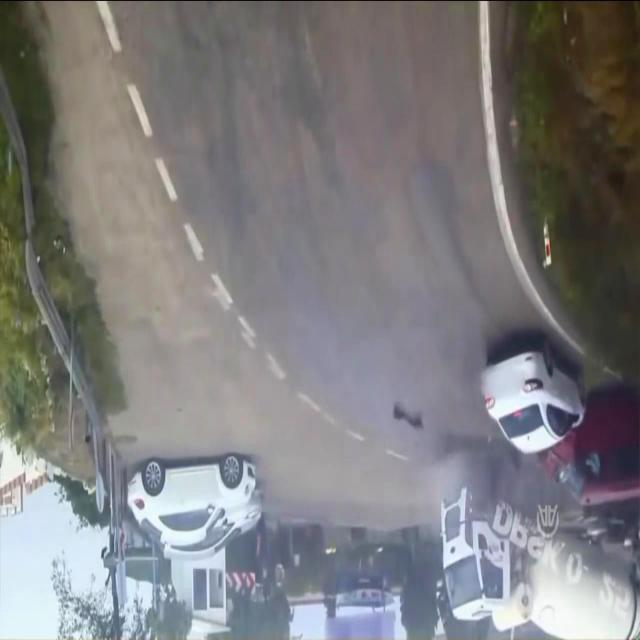moderate: (479, 332, 638, 512)
